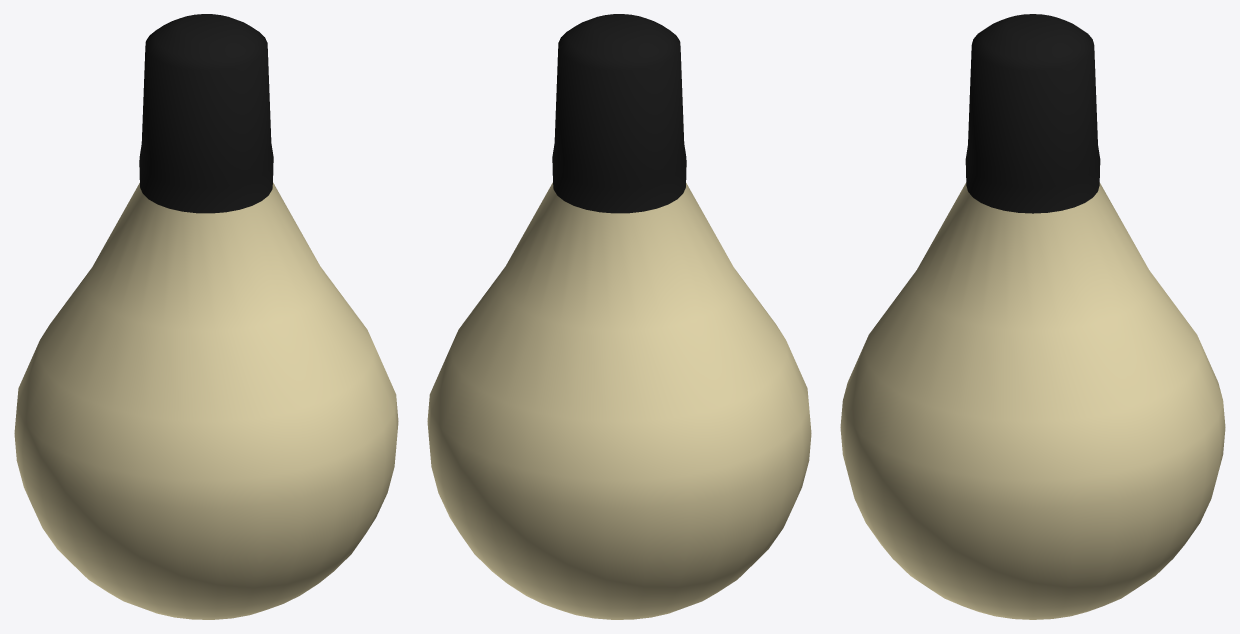
File: LightBulb.fbx
The picture shows the model from 3 angles, left to right: view 1: azimuth 30°, elevation 25°; view 2: azimuth 150°, elevation 25°; view 3: azimuth 270°, elevation 25°; orthographic projection.
Visible parts, largest first — view 1: NurbsPath.001; view 2: NurbsPath.001; view 3: NurbsPath.001.
Boxes of the visible parts, bbox=[...] form: NurbsPath.001: bbox=[14, 14, 398, 619]; NurbsPath.001: bbox=[427, 14, 811, 619]; NurbsPath.001: bbox=[840, 14, 1225, 619].
Size of the model in its own units: 11.05 by 17.97 by 11.05.
